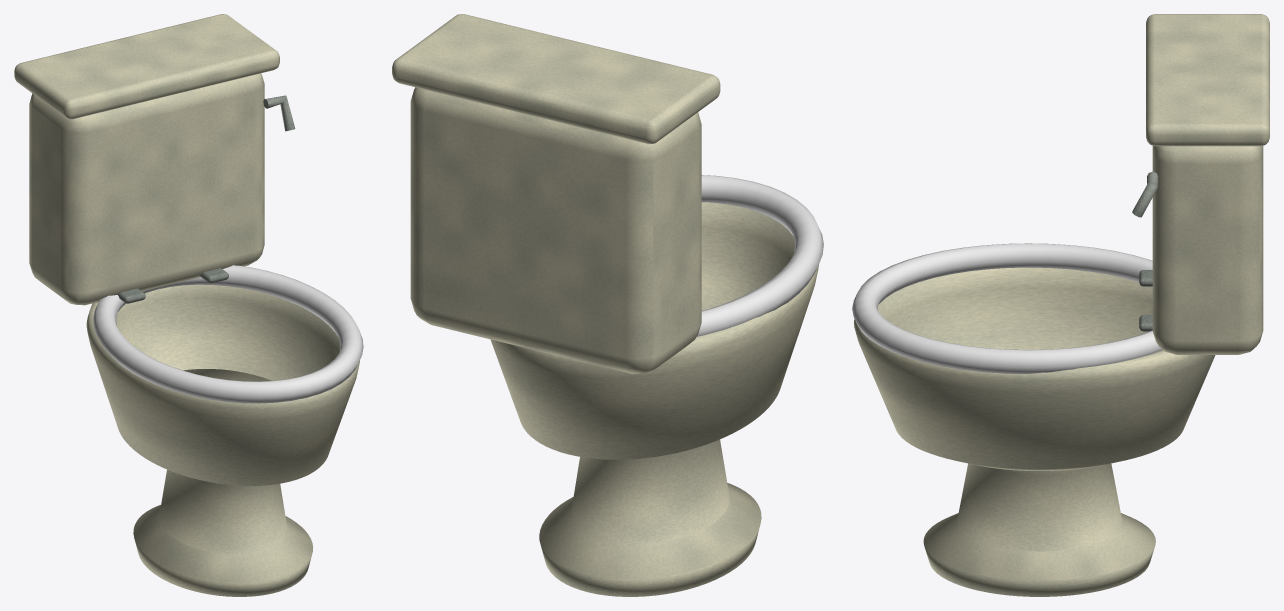
File: Toilet.fbx
3 renders of one model, left to right at view 1: azimuth 30°, elevation 25°; view 2: azimuth 150°, elevation 25°; view 3: azimuth 270°, elevation 25°, orthographic. The views are drawn at different scales.
Visible parts, largest first — view 1: Toilet_Porcelain, Toilet_Walnut, Toilet_Chrome; view 2: Toilet_Porcelain, Toilet_Walnut; view 3: Toilet_Porcelain, Toilet_Walnut, Toilet_Chrome.
Part boxes in pixels (x1=…): Toilet_Porcelain: x1=14, y1=14, x2=359, y2=596; Toilet_Walnut: x1=93, y1=265, x2=363, y2=403; Toilet_Chrome: x1=118, y1=95, x2=295, y2=303; Toilet_Porcelain: x1=392, y1=14, x2=818, y2=596; Toilet_Walnut: x1=697, y1=175, x2=823, y2=336; Toilet_Porcelain: x1=854, y1=14, x2=1269, y2=596; Toilet_Walnut: x1=852, y1=243, x2=1162, y2=373; Toilet_Chrome: x1=1132, y1=171, x2=1158, y2=331.
Bounding box in the file's own units: 64.63 × 122 × 94.4.
